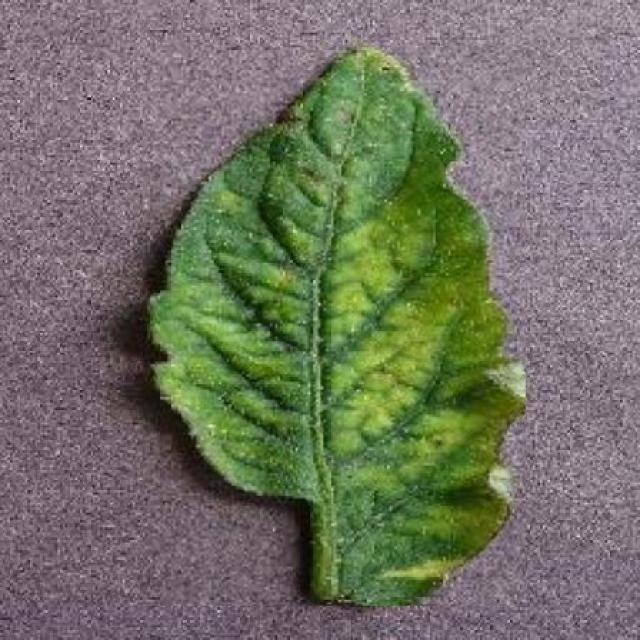Mosaic Virus: (144, 45, 526, 606)
